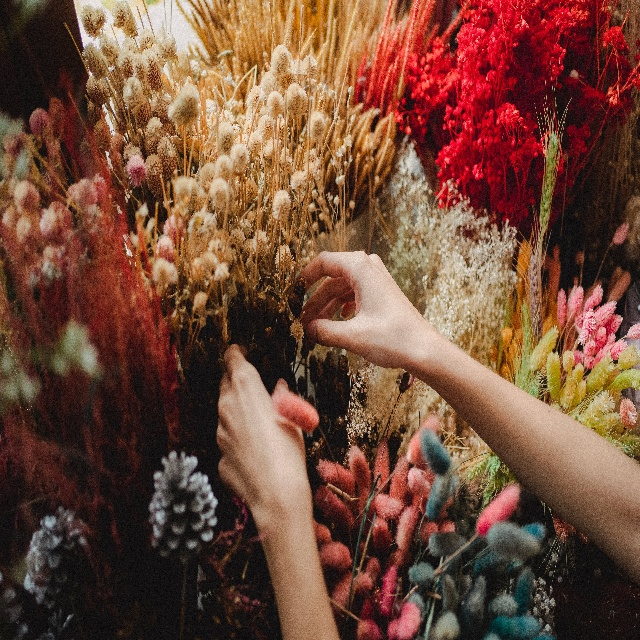Sin_guantes: (216, 344, 312, 525), (299, 247, 428, 380)
